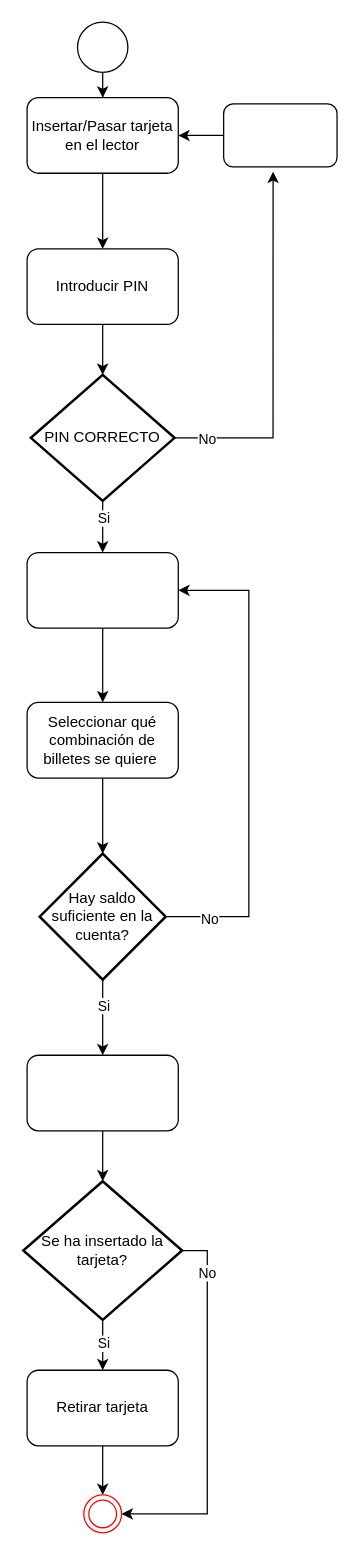
Image size: 359x1555. Some labels were removed from this diagram. The centre of each missing label's shape, as x and y in pixels:
Introducir la cantidad a retirar: pixel 102 589
Retirar billetes: pixel 102 1092
Se finaliza el proceso: pixel 279 135
